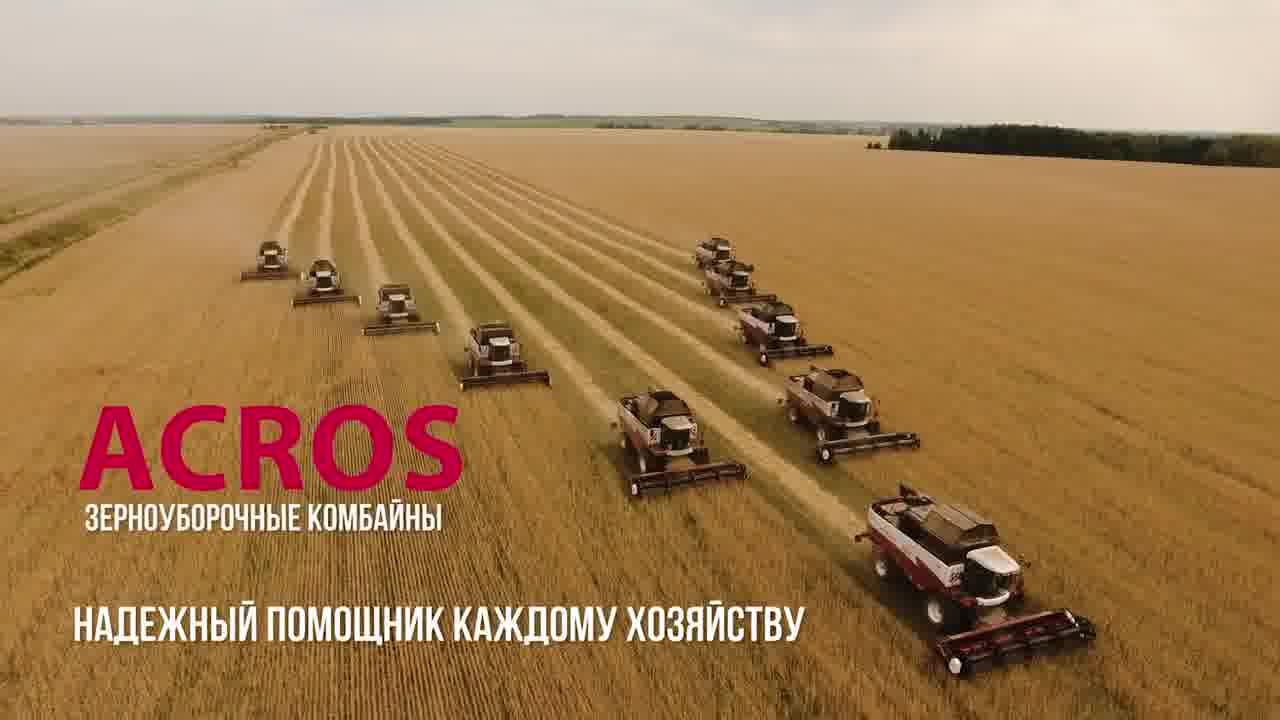combine harvester: (854, 477, 1100, 679), (610, 385, 753, 508), (775, 362, 927, 469), (453, 321, 554, 399), (735, 297, 836, 366), (356, 274, 447, 344), (286, 252, 365, 317), (700, 260, 780, 309), (238, 234, 307, 286), (693, 234, 746, 271)
